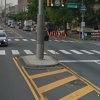Crosswalk: (11, 33, 99, 64)
